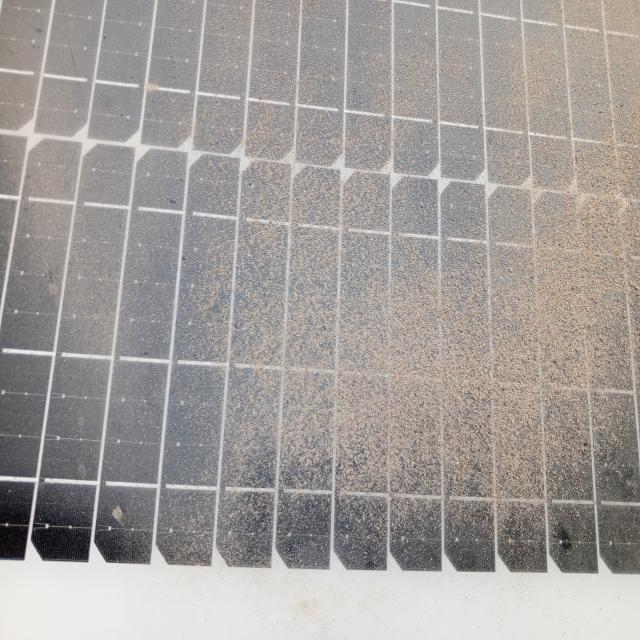Anomaly Solar Panel: (0, 1, 639, 579)
Surface Contaminant: (0, 1, 639, 579)
